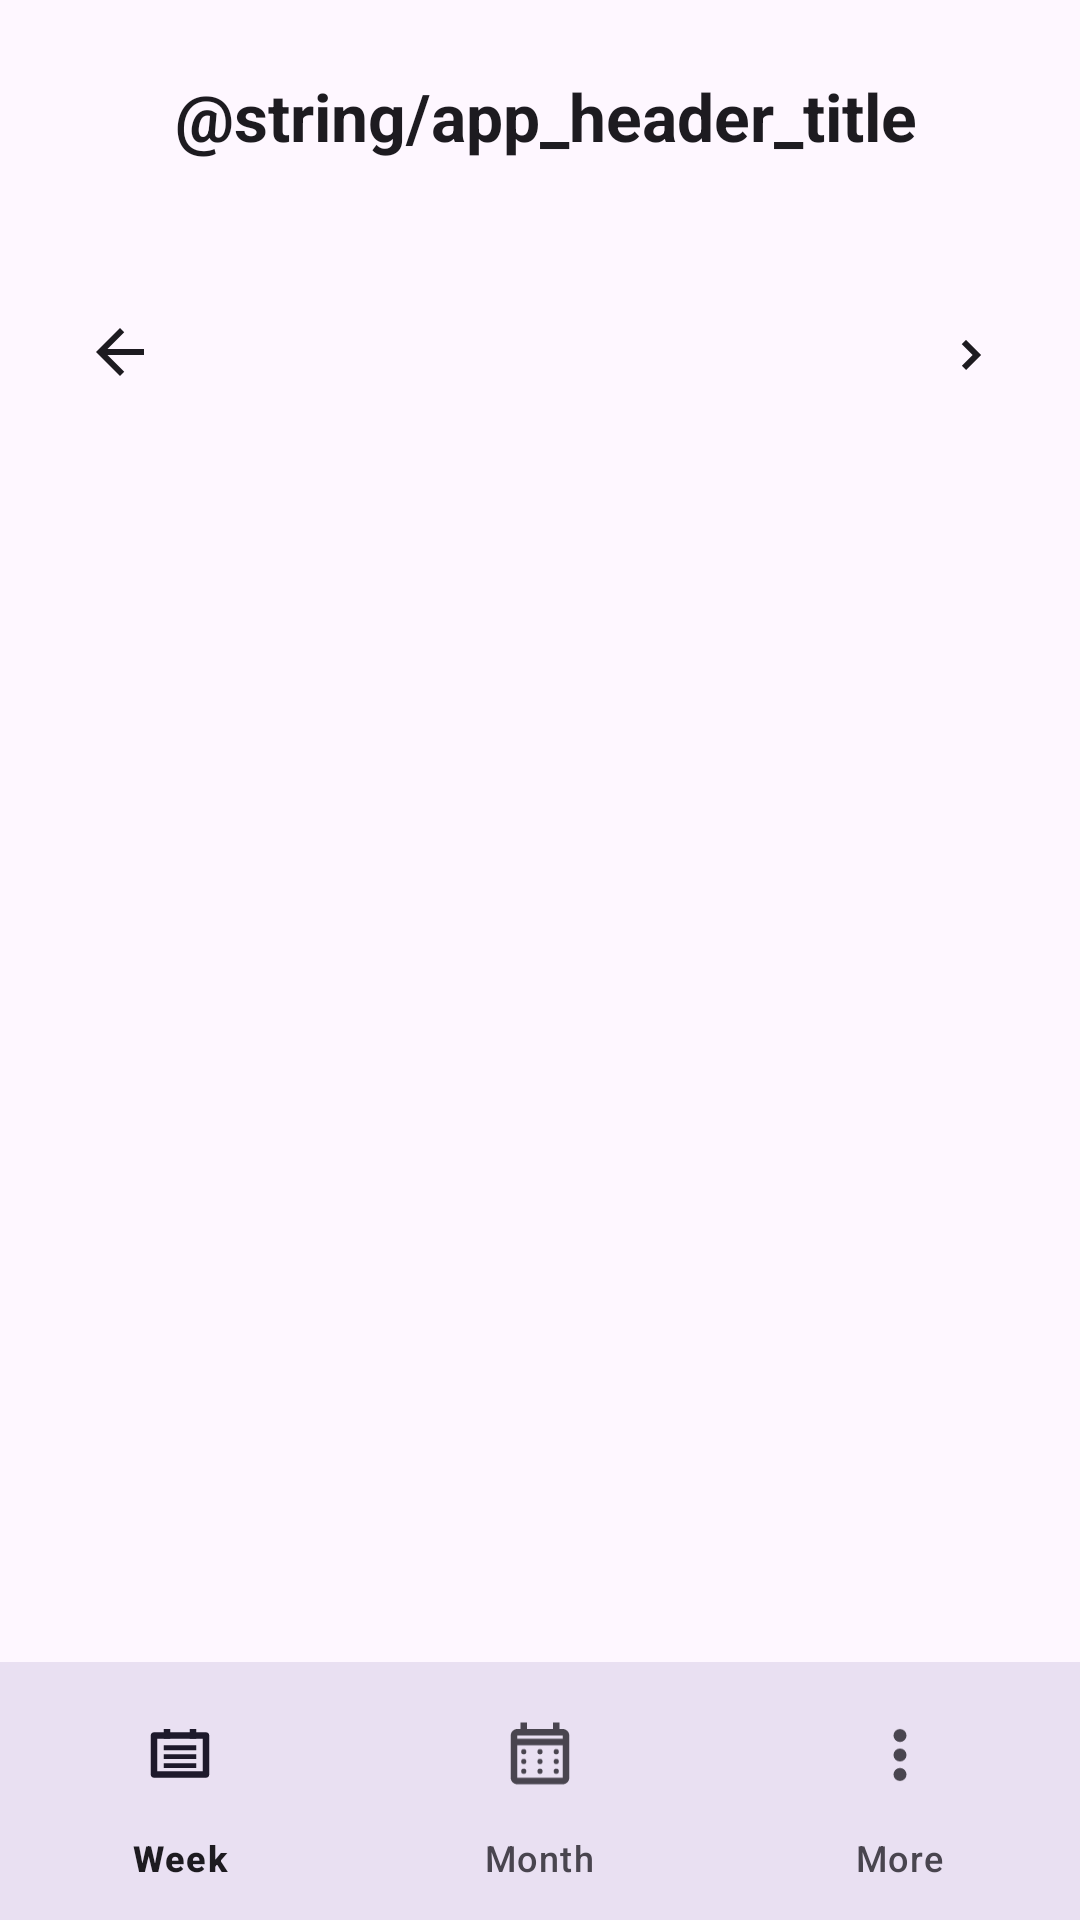

Screen size 1080x1920. Icon name, then its center in pixels as point (x, y):
Next month: point (971, 355)
Previous month: point (120, 352)
